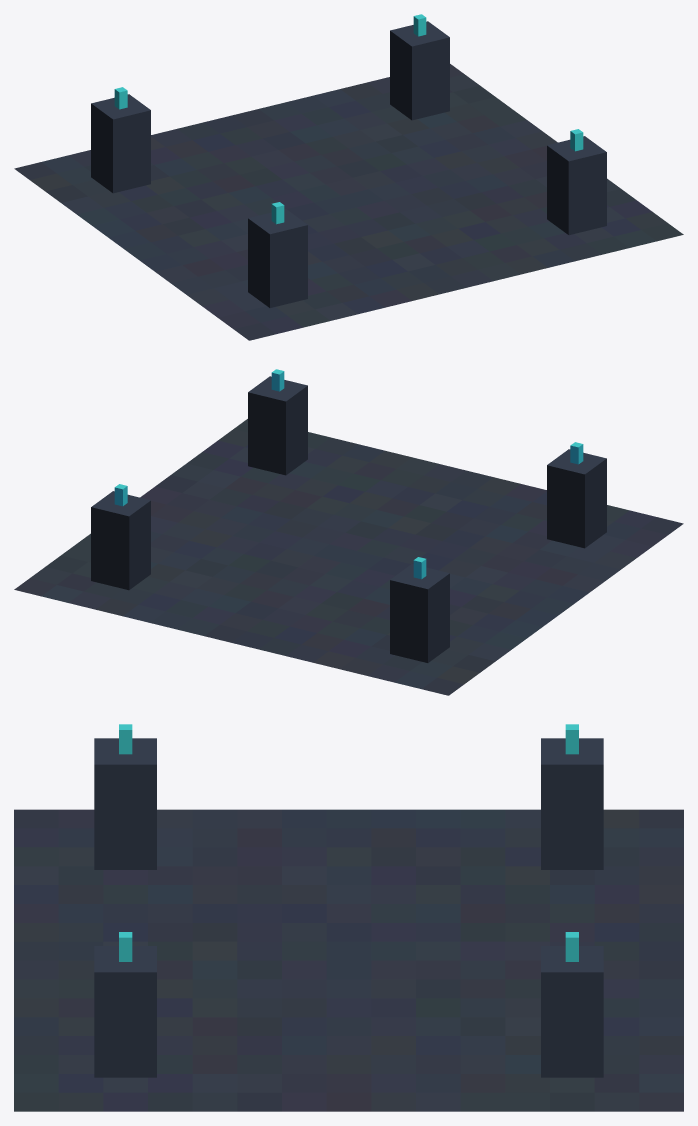
The picture shows the model from 3 angles, top to bottom: view 1: azimuth 30°, elevation 25°; view 2: azimuth 150°, elevation 25°; view 3: azimuth 270°, elevation 25°; orthographic projection. The views are drawn at different scales.
Parts seen in each view (by area): view 1: scenery; view 2: scenery; view 3: scenery.
Boxes of the visible parts, box(x1,y1,x2,y2) form: scenery: box(14, 14, 683, 340); scenery: box(14, 369, 683, 695); scenery: box(14, 724, 683, 1111).
Bounding box in the file's own units: 16 × 3.2 × 15.
